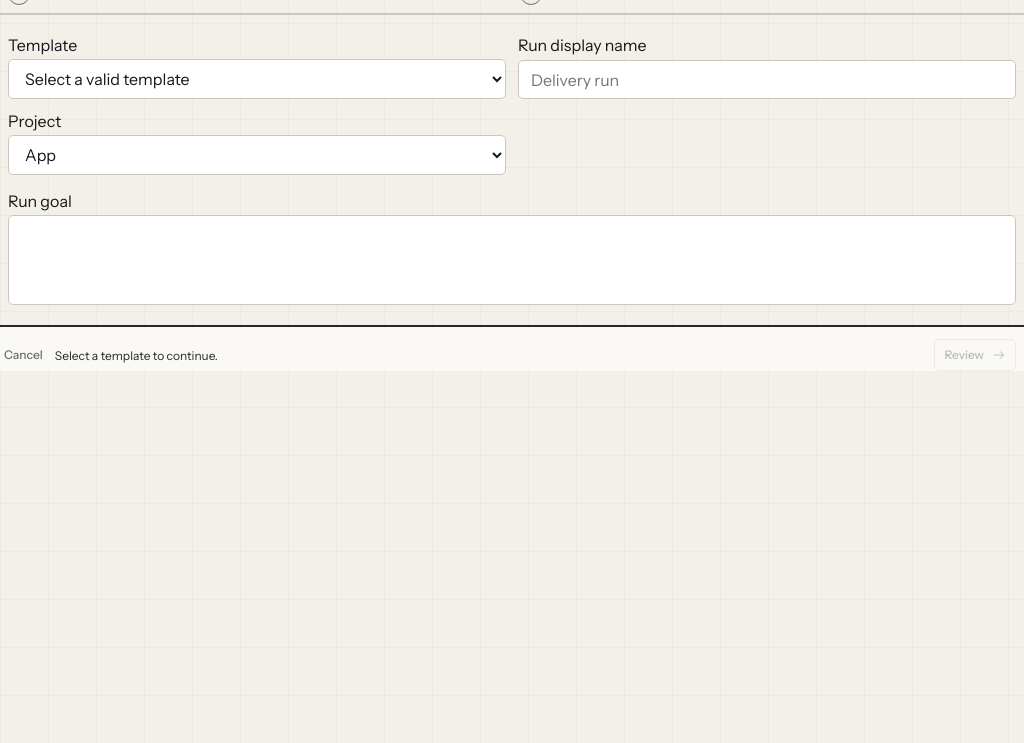
Test: RunStartForm › opens the runtime controls when the defaults leave an assignment missing
Step 1. Select "Delivery" in the dropdown labelled "Template" → (257, 79), box [8,59,506,99]
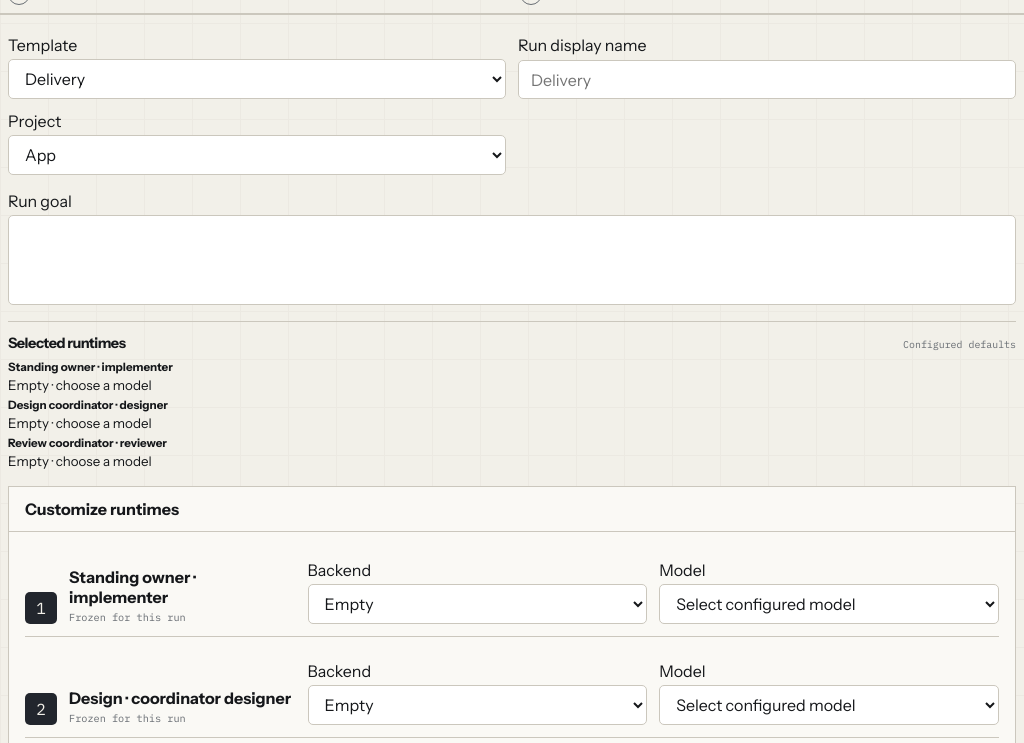
Step 2. Type "Ship it" into the text box labelled "Run goal" → (512, 260), box [8,215,1016,305]
(page scrolled)
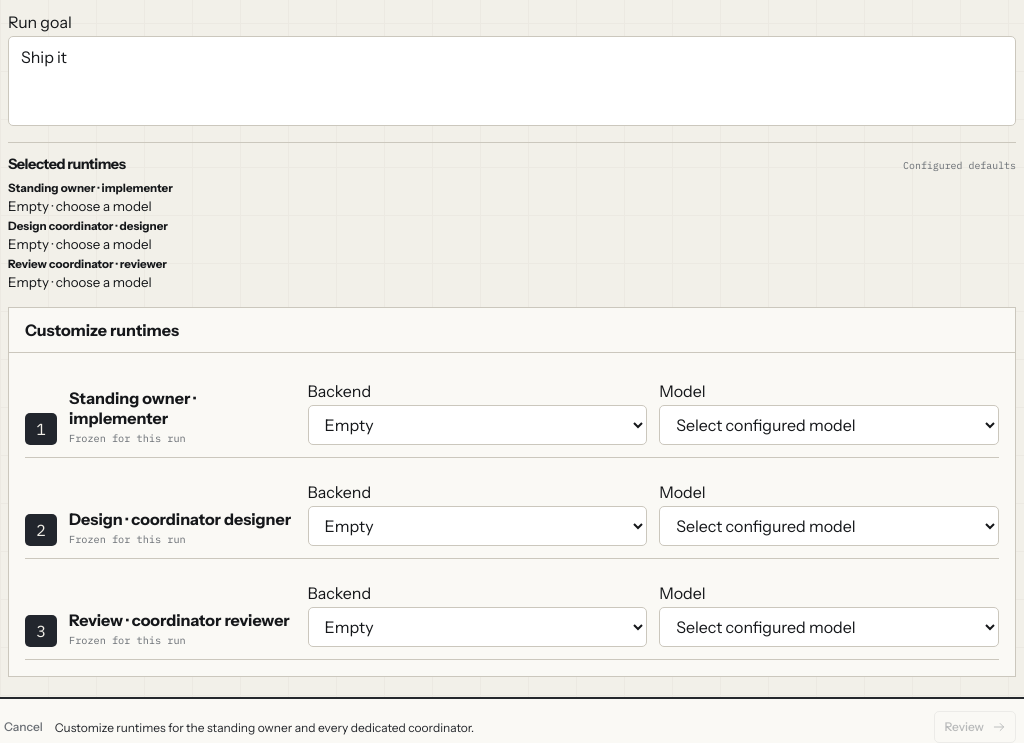
Expected: the button "Review" is disabled, [934,711,1016,742]
Expected: the 1st dropdown labelled "Backend" is shown, [308,405,647,445]
Expected: the text "Customize runtimes for the standing owner" is shown, [55,720,474,734]
